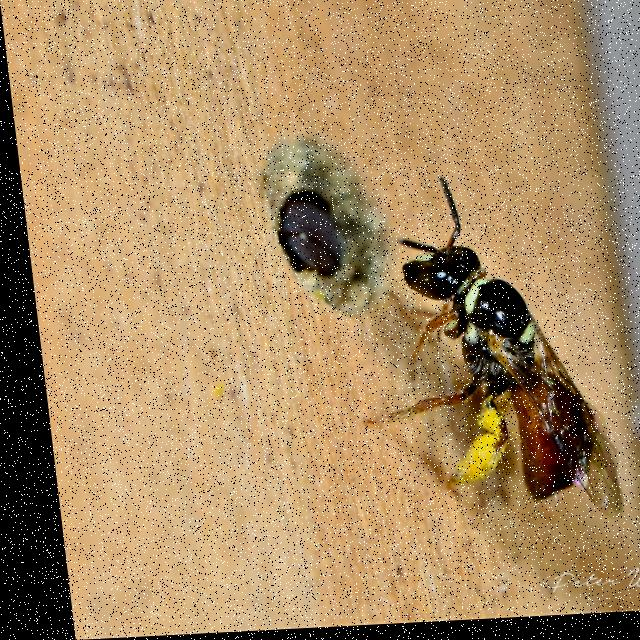Allodapula: (348, 148, 626, 556)
